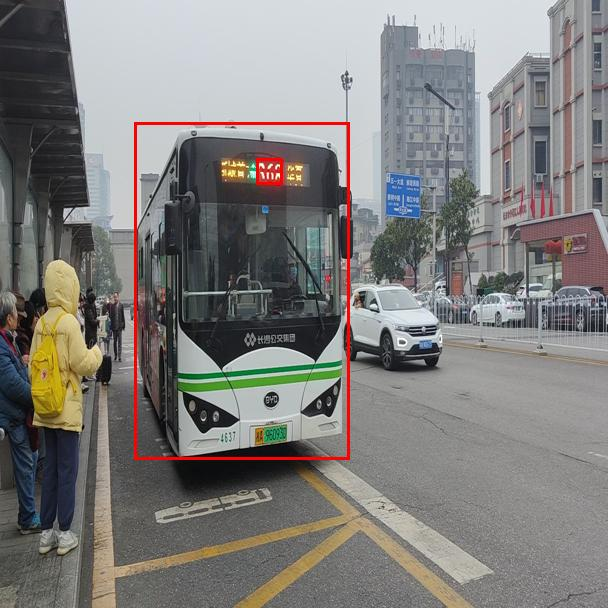bus: (134, 122, 349, 459)
screen: (256, 158, 282, 184)
